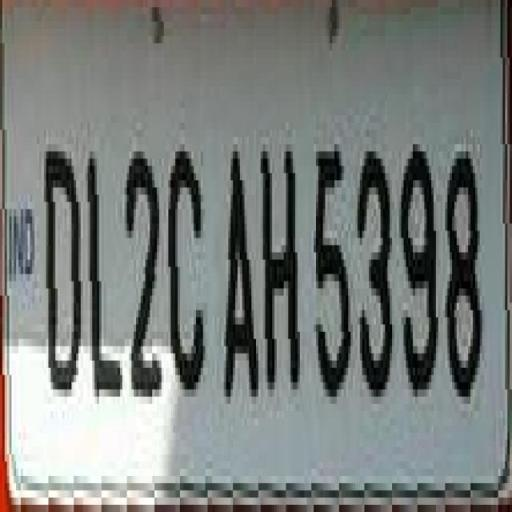number plate: (0, 29, 489, 490)
